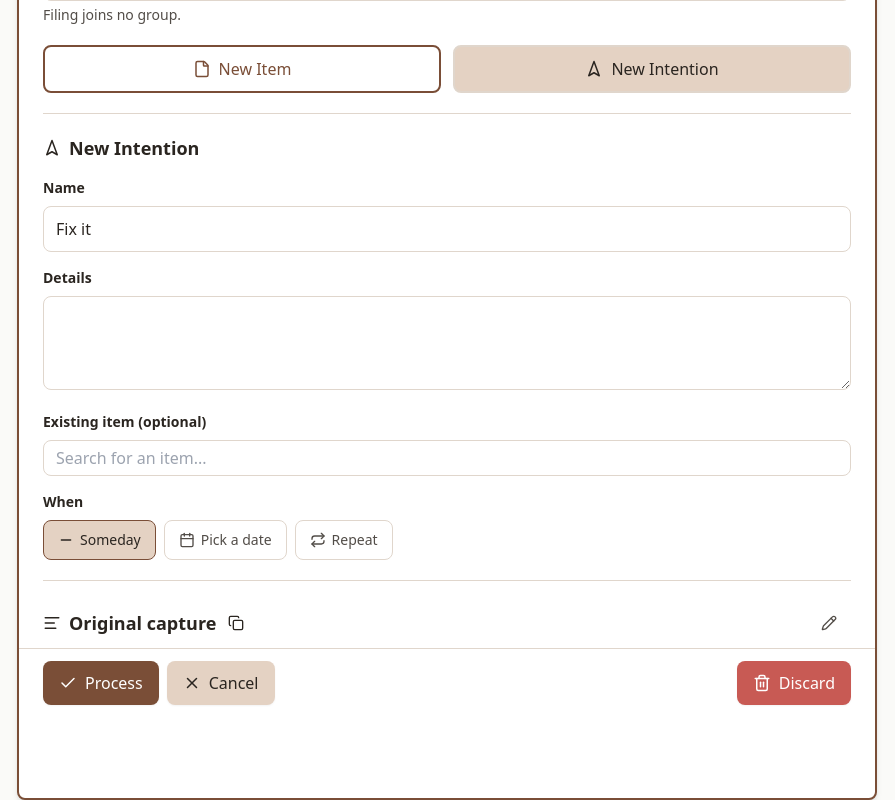
When › refuses a date before today, and Process waits
The width and height of the screenshot is (895, 800).
(page scrolled)
Click the button "Pick a date". click: point(225, 540)
box: [164,520,287,560]
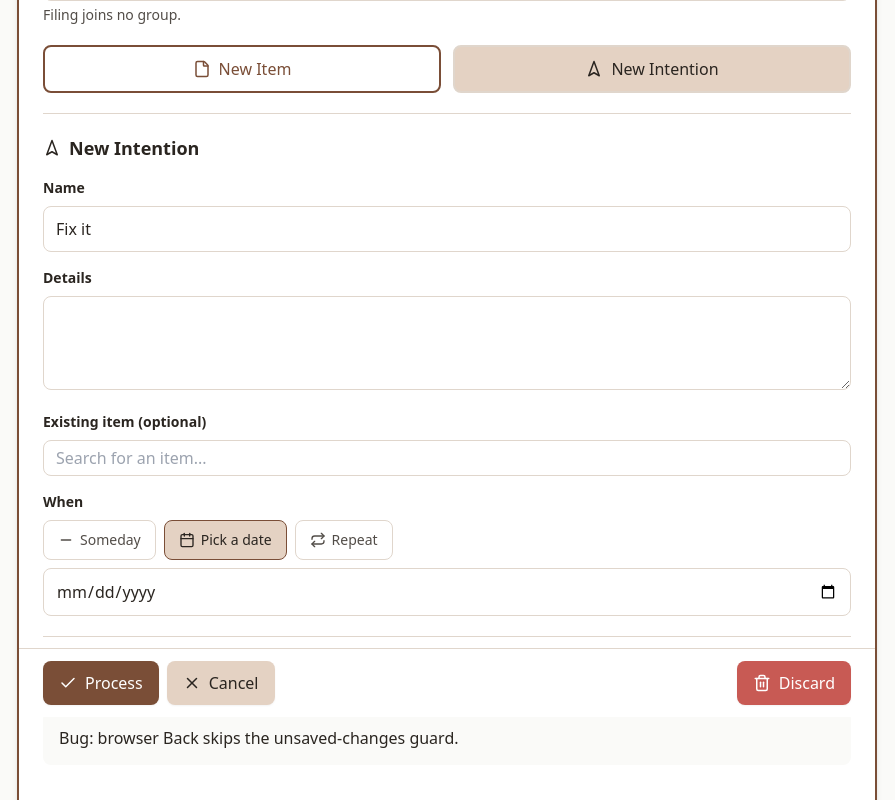
Type "2020-01-01" into the date field named "Date". click: point(447, 592)
box: [43,568,851,616]
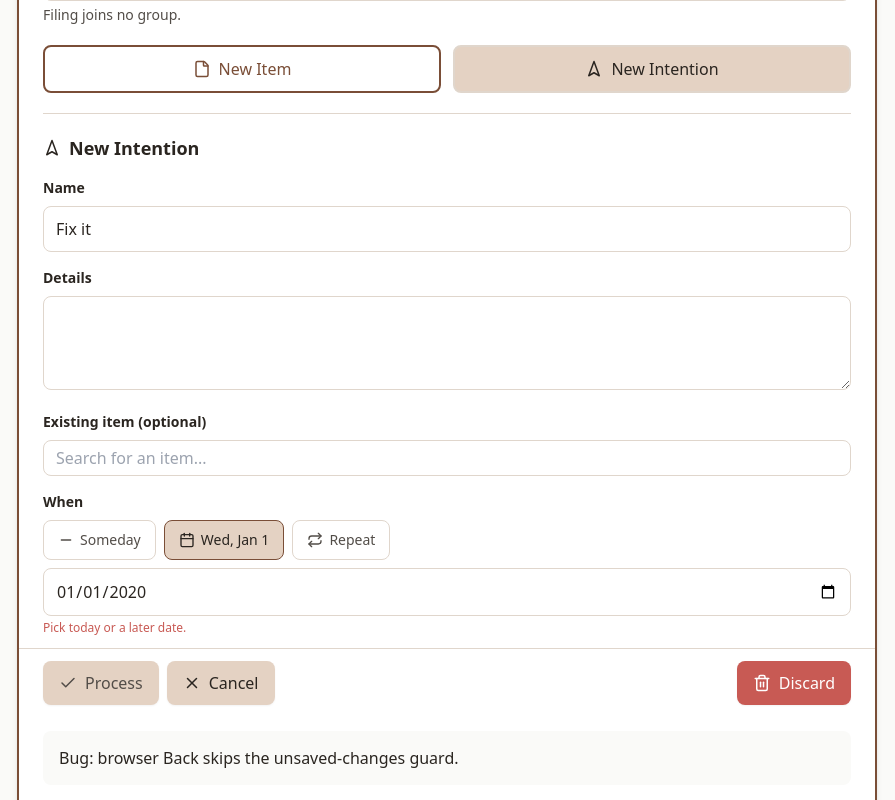
Result: the message reads "Pick today or a later date." at [43,619,186,636]
Result: the button "Process" is disabled at [43,661,159,705]
